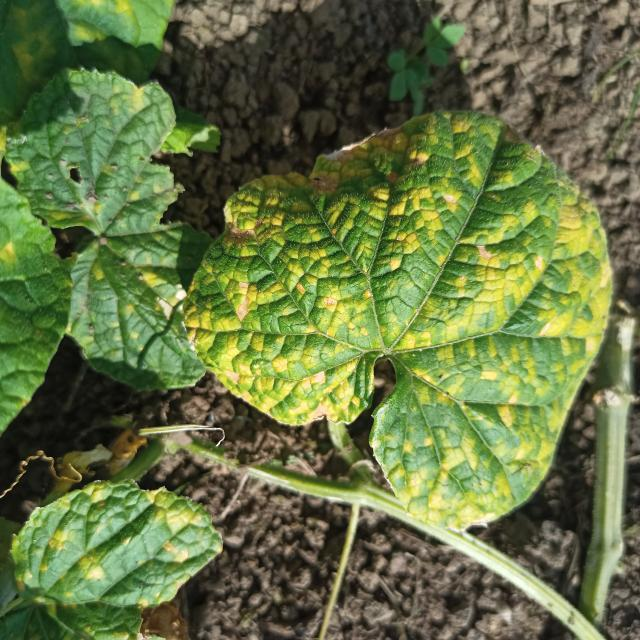disease_cucumber: (198, 116, 608, 527)
